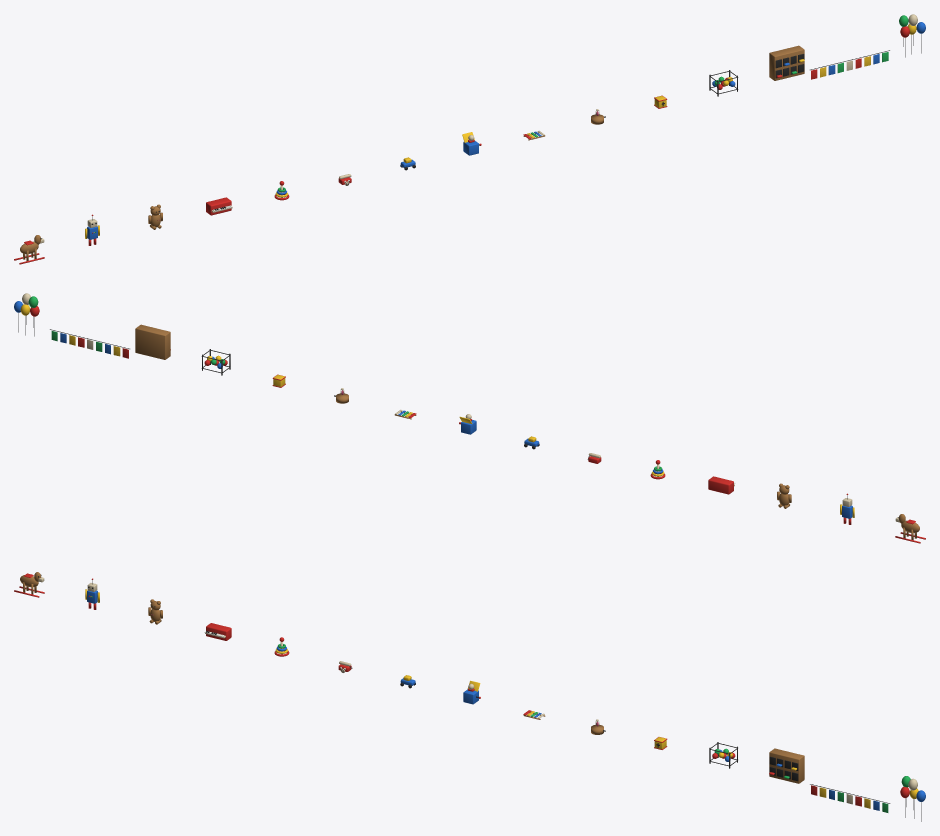
The picture shows the model from 3 angles, top to bottom: view 1: azimuth 30°, elevation 25°; view 2: azimuth 150°, elevation 25°; view 3: azimuth 330°, elevation 25°; orthographic projection.
Visible parts, largest first — view 1: cubby_case; view 2: cubby_case; view 3: cubby_case.
Part boxes in pixels (bbox=[...]): cubby_case: bbox=[769, 45, 804, 80]; cubby_case: bbox=[135, 324, 170, 359]; cubby_case: bbox=[769, 748, 804, 783].
Bounding box in the file's own units: 31.65 × 1.37 × 0.56.
